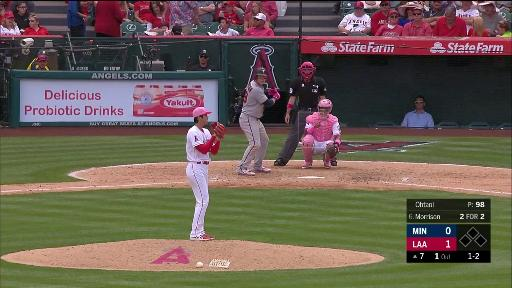pitcher: (186, 106, 227, 242)
